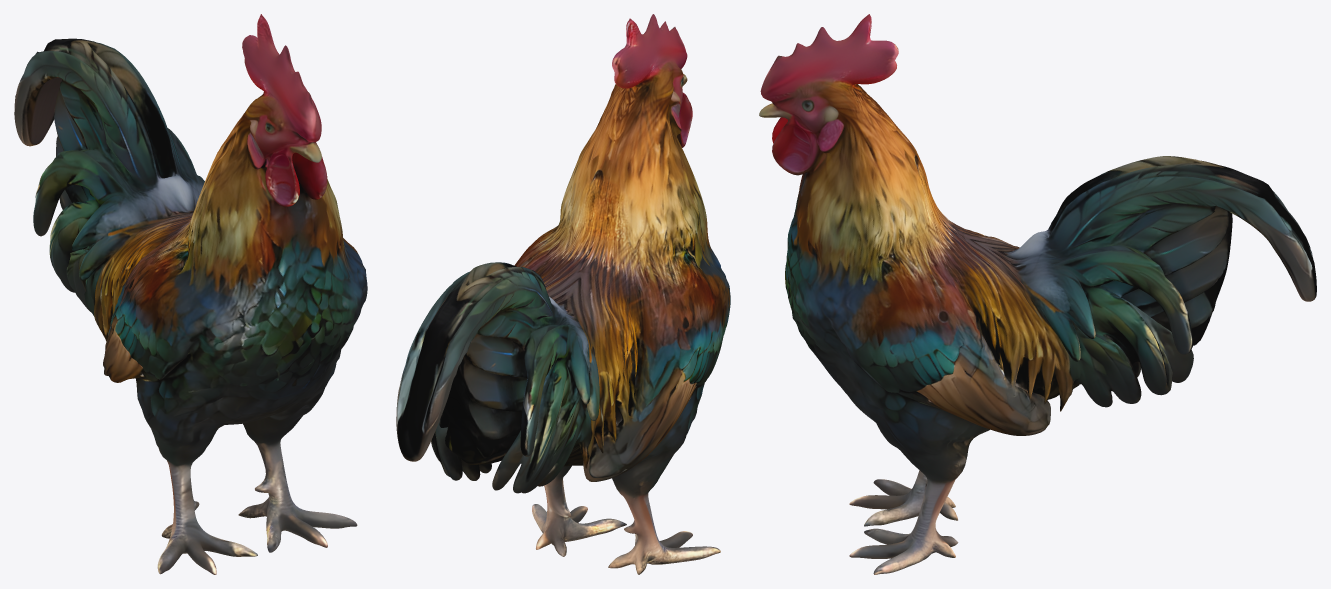
Rendered from rooster.glb.
3 renders of one model, left to right at view 1: azimuth 30°, elevation 25°; view 2: azimuth 150°, elevation 25°; view 3: azimuth 270°, elevation 25°, orthographic. The views are drawn at different scales.
Visible parts, largest first — view 1: model_0; view 2: model_0; view 3: model_0.
Boxes of the visible parts, bbox=[...] form: model_0: bbox=[14, 14, 367, 574]; model_0: bbox=[396, 14, 730, 574]; model_0: bbox=[759, 14, 1316, 574].
Bounding box in the file's own units: 0.7456 × 1.81 × 1.76.
1 material, 1 textured.
